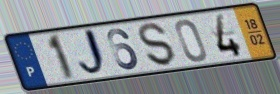0: (174, 18, 208, 64)
1: (47, 32, 80, 83)
4: (215, 13, 243, 59)
6: (106, 27, 141, 71)
J: (77, 26, 110, 80)
S: (138, 22, 178, 68)
